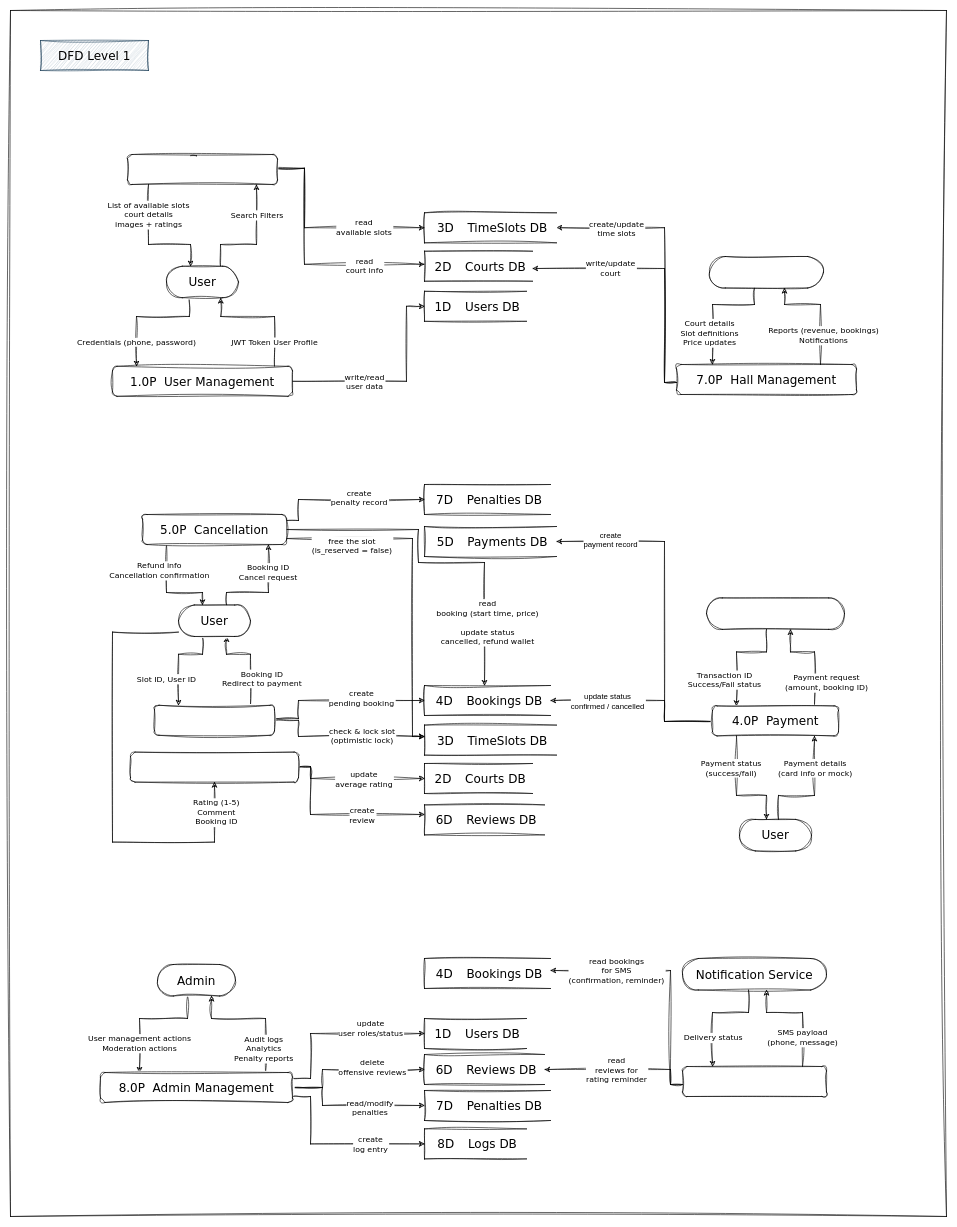
The diagram is 957 pixels wide and 1227 high, and some of its shapes have lost their labels. The shapes that lost their labels are listed below. From the top down, each one's centre as x and y in pixels, then its label:
At [202,169]: "2.0P Search Slots".
At [766,272]: "Hall Manager".
At [775,613]: "Payment Gateway".
At [214,720]: "3.0P Booking".
At [214,767]: "6.0P Review & Rating".
At [754,1081]: "9.0P Notification".
